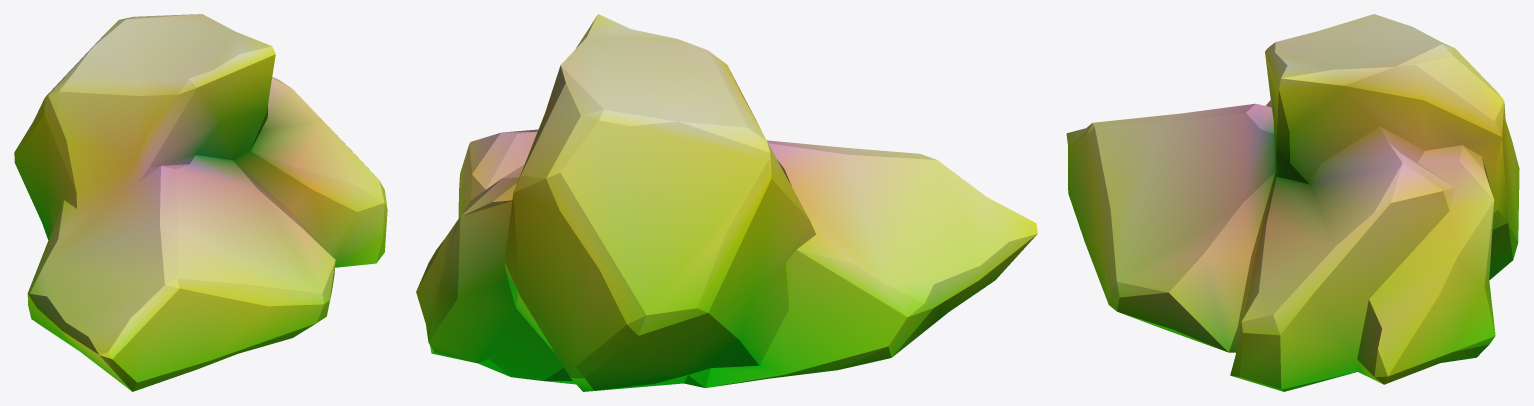
The model's file is rock_group_02_LOD1.fbx.
The picture shows the model from 3 angles, left to right: view 1: azimuth 30°, elevation 25°; view 2: azimuth 150°, elevation 25°; view 3: azimuth 270°, elevation 25°; orthographic projection. The views are drawn at different scales.
Visible parts, largest first — view 1: LOD1; view 2: LOD1; view 3: LOD1.
Boxes of the visible parts, <box> form: LOD1: <box>14,14,387,391</box>; LOD1: <box>416,14,1037,391</box>; LOD1: <box>1066,14,1519,391</box>.
Size of the model in its own units: 370 by 212 by 339.
